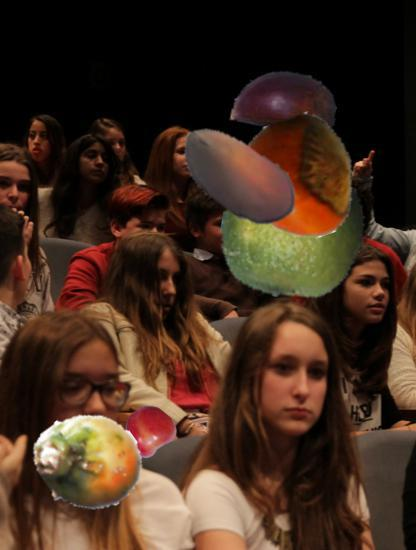Cactus: (36, 410, 140, 514)
Cherry: (123, 406, 174, 457)
Chestnut: (233, 48, 340, 155)
Hazelnut: (172, 111, 304, 243)
Limes: (222, 153, 369, 300)
Nut: (238, 118, 361, 241)
